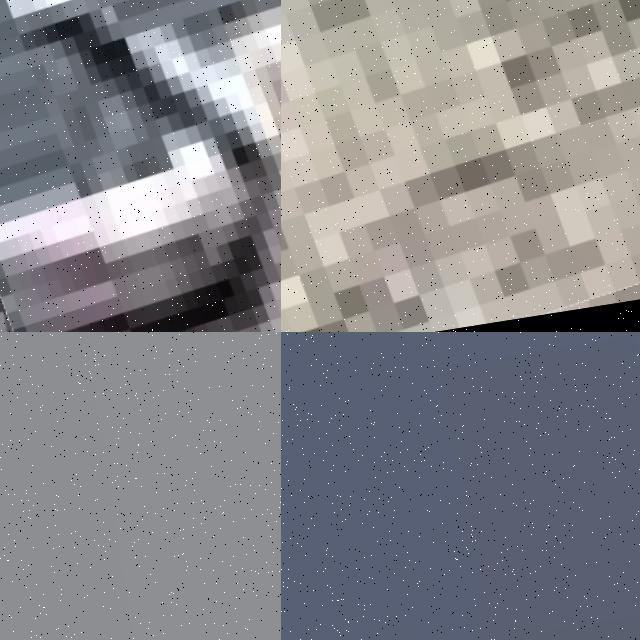0: (0, 0, 281, 332)
drone: (281, 0, 640, 332)
